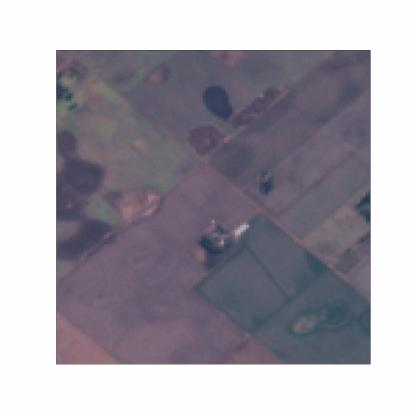silobolsa: (235, 222, 249, 238)
